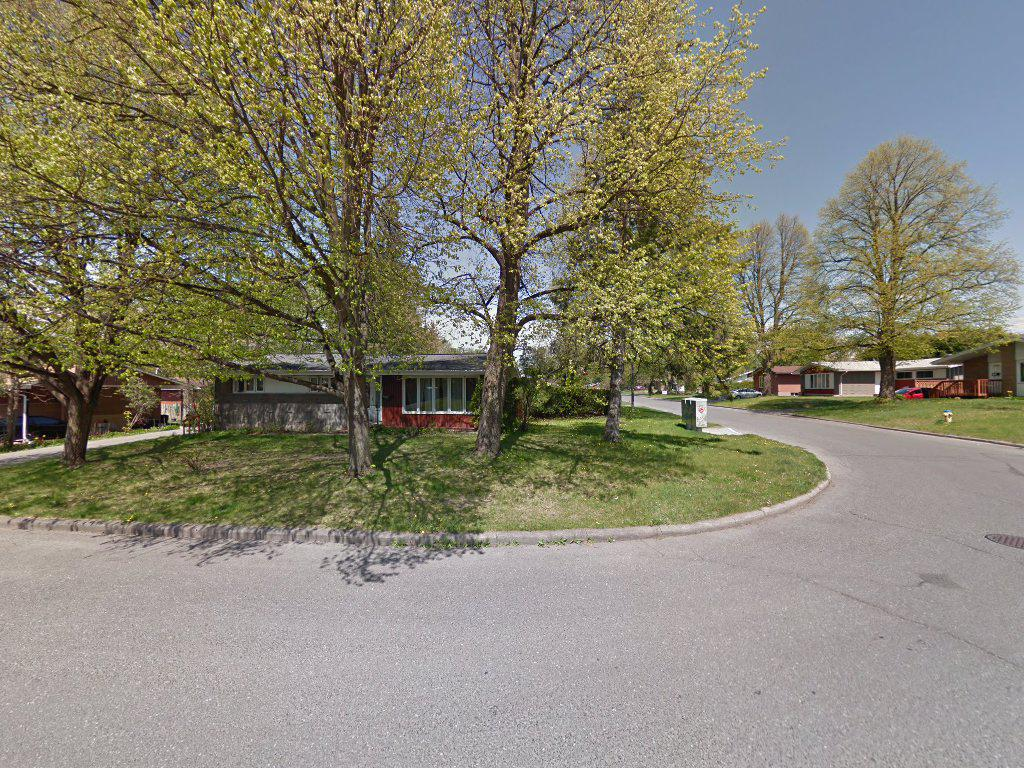trunk: (335, 349, 377, 486), (475, 321, 512, 470), (57, 361, 100, 472), (604, 335, 627, 447)
